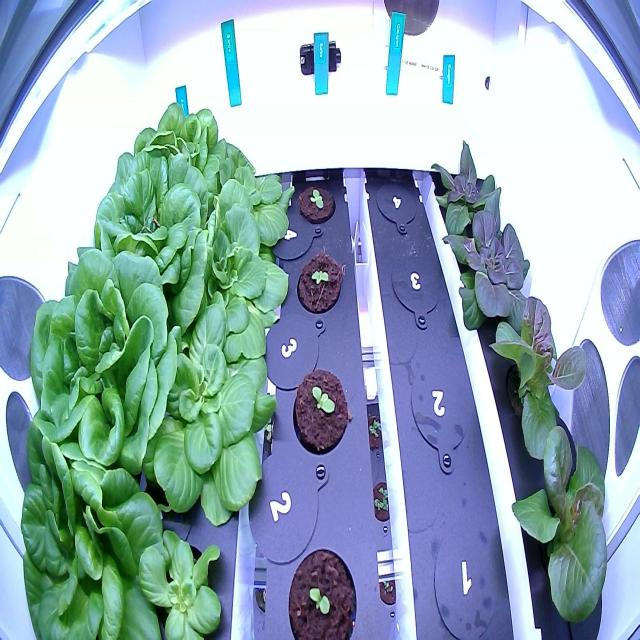Ready: (18, 231, 183, 481), (10, 405, 171, 639), (84, 137, 212, 323), (111, 87, 227, 238)
empty_pod: (426, 521, 507, 639), (406, 352, 478, 477), (388, 242, 447, 333), (371, 167, 422, 236)
germination: (275, 534, 361, 639), (284, 356, 356, 462), (288, 237, 349, 333), (294, 175, 342, 230)
young: (137, 293, 284, 535), (506, 415, 622, 632), (482, 283, 594, 478), (168, 199, 293, 367), (179, 129, 299, 262), (439, 204, 546, 344), (130, 519, 239, 639), (427, 134, 506, 245)
